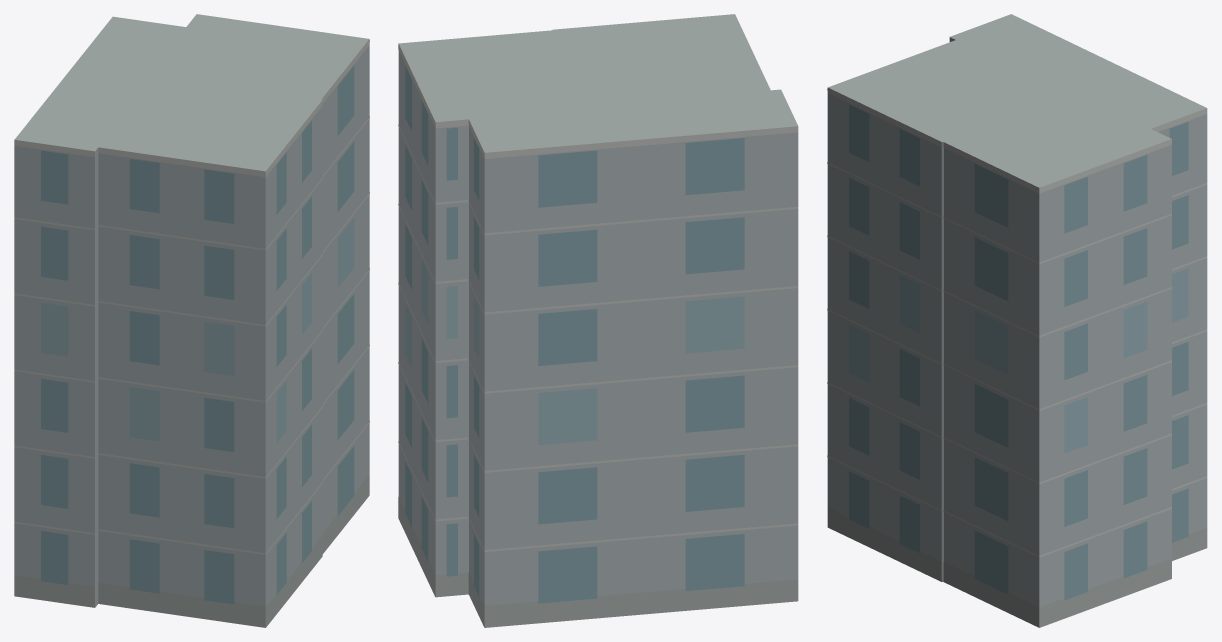
File: survey-upis-32519275.glb
The picture shows the model from 3 angles, left to right: view 1: azimuth 30°, elevation 25°; view 2: azimuth 150°, elevation 25°; view 3: azimuth 270°, elevation 25°; orthographic projection. The views are drawn at different scales.
Visible parts, largest first — view 1: survey-upis-32519275.tmp; view 2: survey-upis-32519275.tmp; view 3: survey-upis-32519275.tmp.
Boxes of the visible parts, x1,y1,x2,y2 form: survey-upis-32519275.tmp: [14, 14, 369, 627]; survey-upis-32519275.tmp: [398, 14, 798, 627]; survey-upis-32519275.tmp: [827, 14, 1207, 627].
Size of the model in its own units: 15.99 by 18.85 by 14.76.
